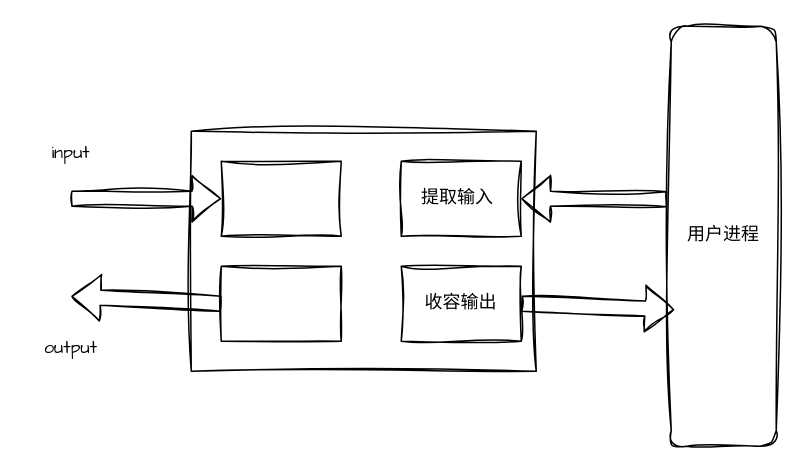
This 803x473 diagram has some shape labels left out. The shapes that lost their labels are listed below. From the top down, each one's centre as x and y in pixels, then its label:
At pixel 280 198: "收容输入".
At pixel 280 303: "提取输出".
